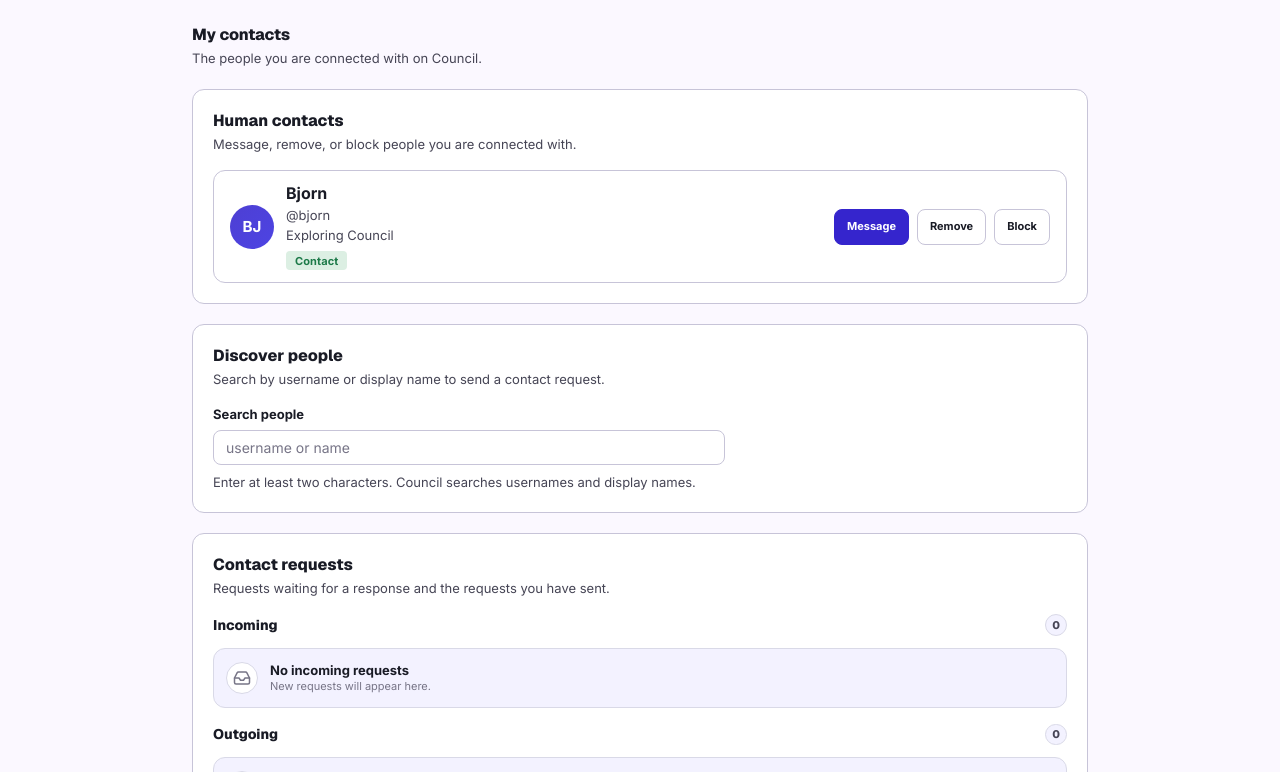
ContactsPage › keeps the page and reports an error when removal fails
Check: the text "Bjorn" is shown, box [286,183,327,203]
Click the button "Remove".
click(952, 227)  # box [917,209,986,245]
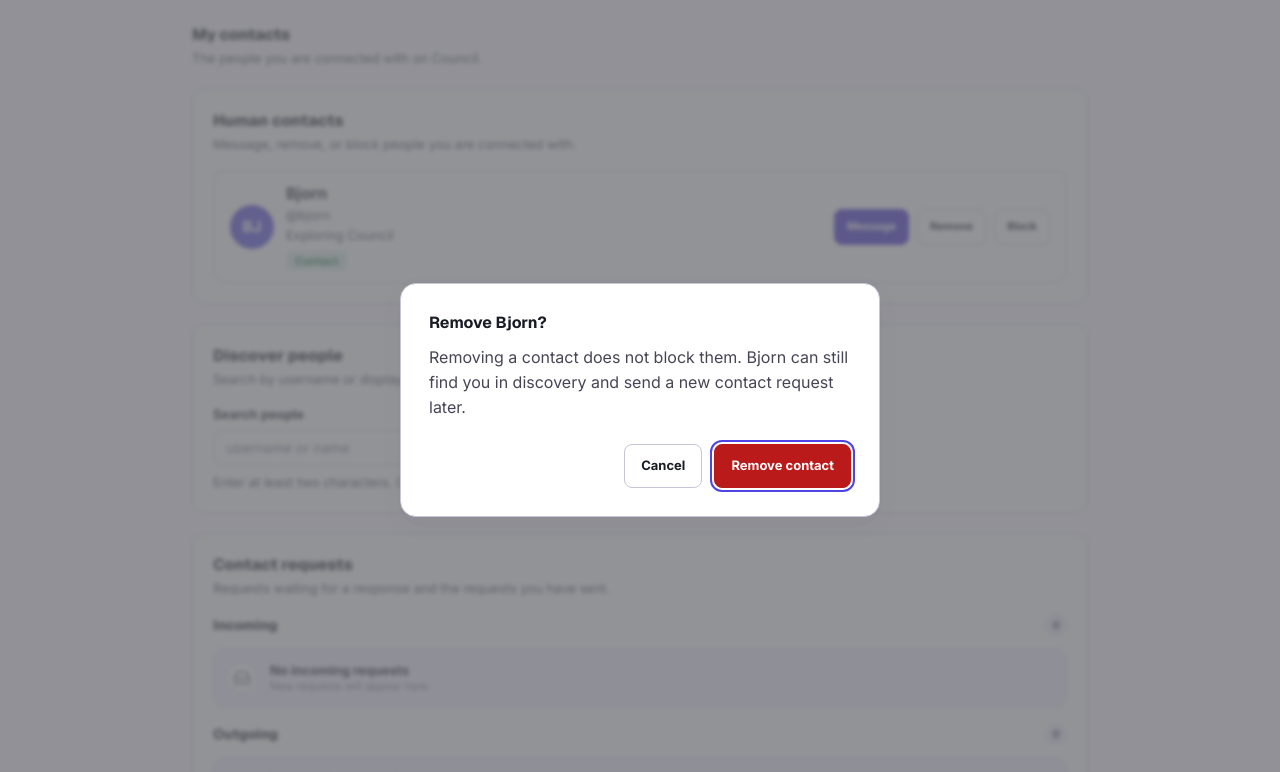
Click the button "Remove contact".
click(783, 466)  # box [714,444,851,488]
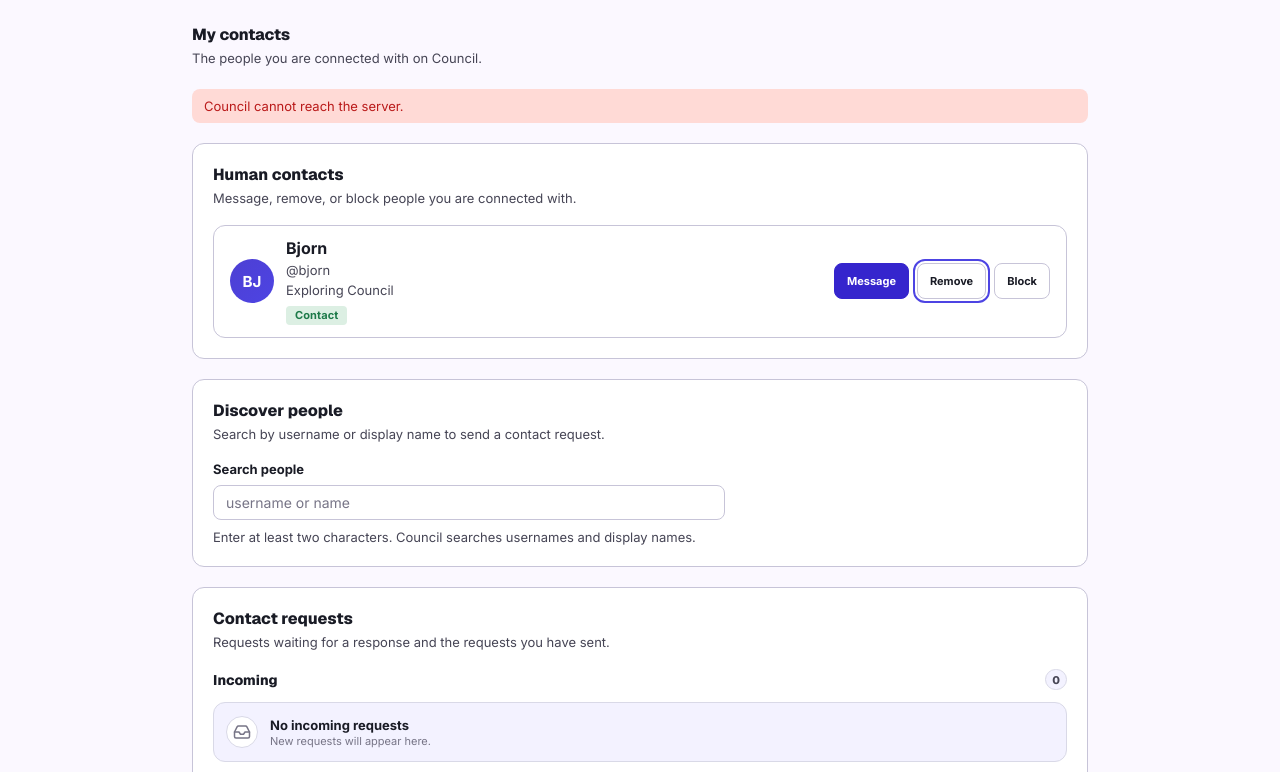
Check: the text "Bjorn" is shown, box [286,238,327,258]
Check: the text "Council cannot reach the server." is shown, box [192,88,1088,123]
